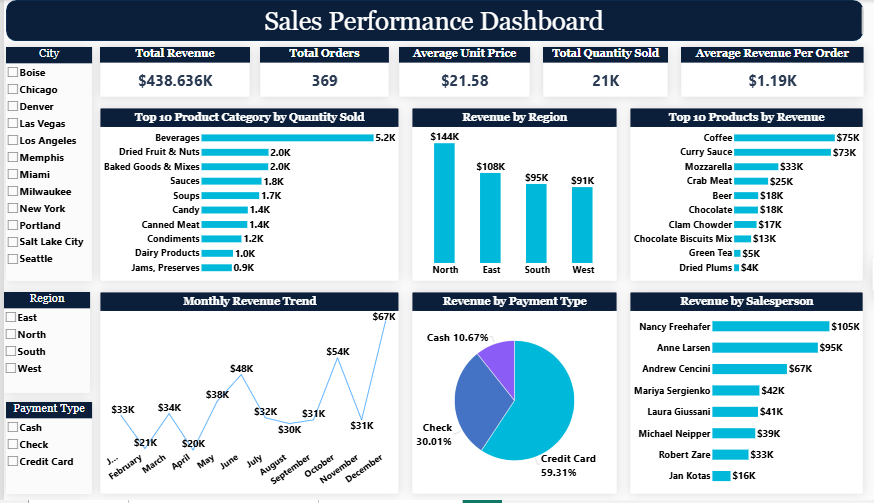

This screenshot's page, from the dashboard's own definition file:
{"tool":"powerbi","page":{"name":"Dashboard","canvas":[4000,2300],"ordinal":0},"visuals":[{"type":"shape","box":[8.6,0,3944.1,189.2],"z":0},{"type":"textbox","box":[8.6,34.4,3944.1,129],"z":1000},{"type":"cardVisual","title":"Total Revenue","fields":{"Data":["Sales Data.Total Revenue"]},"box":[441.6,216.2,690,230],"z":2000},{"type":"cardVisual","title":"Total Orders","fields":{"Data":["Sales Data.Total Orders"]},"box":[1177.6,216.2,593.4,230],"z":3000},{"type":"cardVisual","title":"Total Quantity Sold","fields":{"Data":["Sales Data.Total Quantity Sold"]},"box":[2477.7,215.2,575.3,231],"z":4000},{"type":"cardVisual","title":"Average Revenue Per Order","fields":{"Data":["Sales Data.Average Revenue Per Order"]},"box":[3112.9,215.2,839.9,231],"z":5000},{"type":"cardVisual","title":"Average Unit Price","fields":{"Data":["Sales Data.Average Unit Price"]},"box":[1817,216.2,602.6,230],"z":6000},{"type":"columnChart","title":"Revenue by Region","fields":{"Category":["Sales Data.Region"],"Y":["Sales Data.Total Revenue"]},"box":[1876.8,496.8,943,795.8],"z":7000},{"type":"slicer","title":"City","fields":{"Values":["Sales Data.City"]},"box":[9.2,216.2,395.6,1076.4],"z":8000},{"type":"slicer","title":"Region","fields":{"Values":["Sales Data.Region"]},"box":[0,1343.2,395.6,464.6],"z":9000},{"type":"slicer","title":"Payment Type","fields":{"Values":["Sales Data.Payment Type"]},"box":[9.2,1849.2,395.6,423.2],"z":10000},{"type":"barChart","title":"Top 10 Product Category by Quantity Sold ","fields":{"Category":["Sales Data.Category"],"Y":["Sales Data.Total Quantity Sold"]},"box":[441.6,496.8,1375.4,795.8],"z":11000},{"type":"barChart","title":"Top 10 Products by Revenue","fields":{"Category":["Sales Data.Product Name"],"Y":["Sales Data.Total Revenue"]},"box":[2879.6,496.8,1071.8,795.8],"z":12000},{"type":"lineChart","title":"Monthly Revenue Trend","fields":{"Category":["Sales Data.Month Name"],"Y":["Sales Data.Total Revenue"]},"box":[441.6,1343.2,1375.4,929.2],"z":13000},{"type":"pieChart","title":"Revenue by Payment Type","fields":{"Category":["Sales Data.Payment Type"],"Y":["Sales Data.Total Revenue"]},"box":[1877,1343,943,929],"z":14000},{"type":"clusteredBarChart","title":"Revenue by Salesperson","fields":{"Category":["Sales Data.Salesperson"],"Y":["Sales Data.Total Revenue"]},"box":[2880,1343,1072,929],"z":15000}]}

Visuals, with their boxes in screenshot pixels (x1, y1, x2, y2), scaled from the page's 4000x2300 canvas onto the 874x503 screenshot:
shape: detection(2, 0, 864, 41)
textbox: detection(2, 8, 864, 36)
"Total Revenue" cardVisual: detection(96, 47, 247, 98)
"Total Orders" cardVisual: detection(257, 47, 387, 98)
"Total Quantity Sold" cardVisual: detection(541, 47, 667, 98)
"Average Revenue Per Order" cardVisual: detection(680, 47, 864, 98)
"Average Unit Price" cardVisual: detection(397, 47, 529, 98)
"Revenue by Region" columnChart: detection(410, 109, 616, 283)
"City" slicer: detection(2, 47, 88, 283)
"Region" slicer: detection(0, 294, 86, 395)
"Payment Type" slicer: detection(2, 404, 88, 497)
"Top 10 Product Category by Quantity Sold " barChart: detection(96, 109, 397, 283)
"Top 10 Products by Revenue" barChart: detection(629, 109, 863, 283)
"Monthly Revenue Trend" lineChart: detection(96, 294, 397, 497)
"Revenue by Payment Type" pieChart: detection(410, 294, 616, 497)
"Revenue by Salesperson" clusteredBarChart: detection(629, 294, 864, 497)
